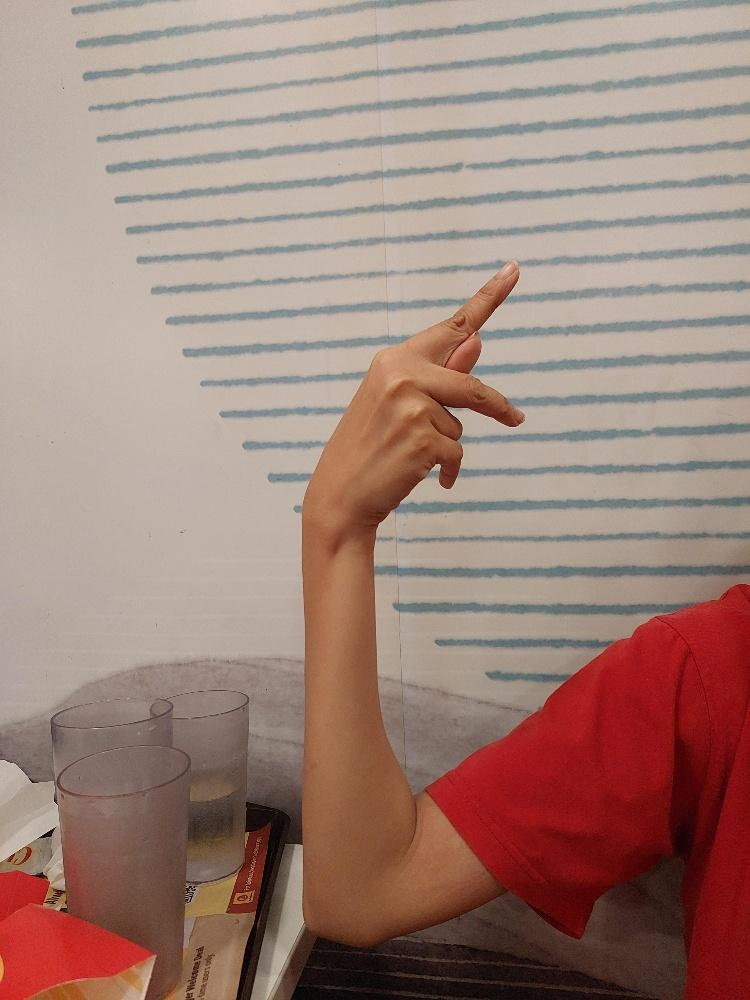k: (303, 258, 528, 533)
